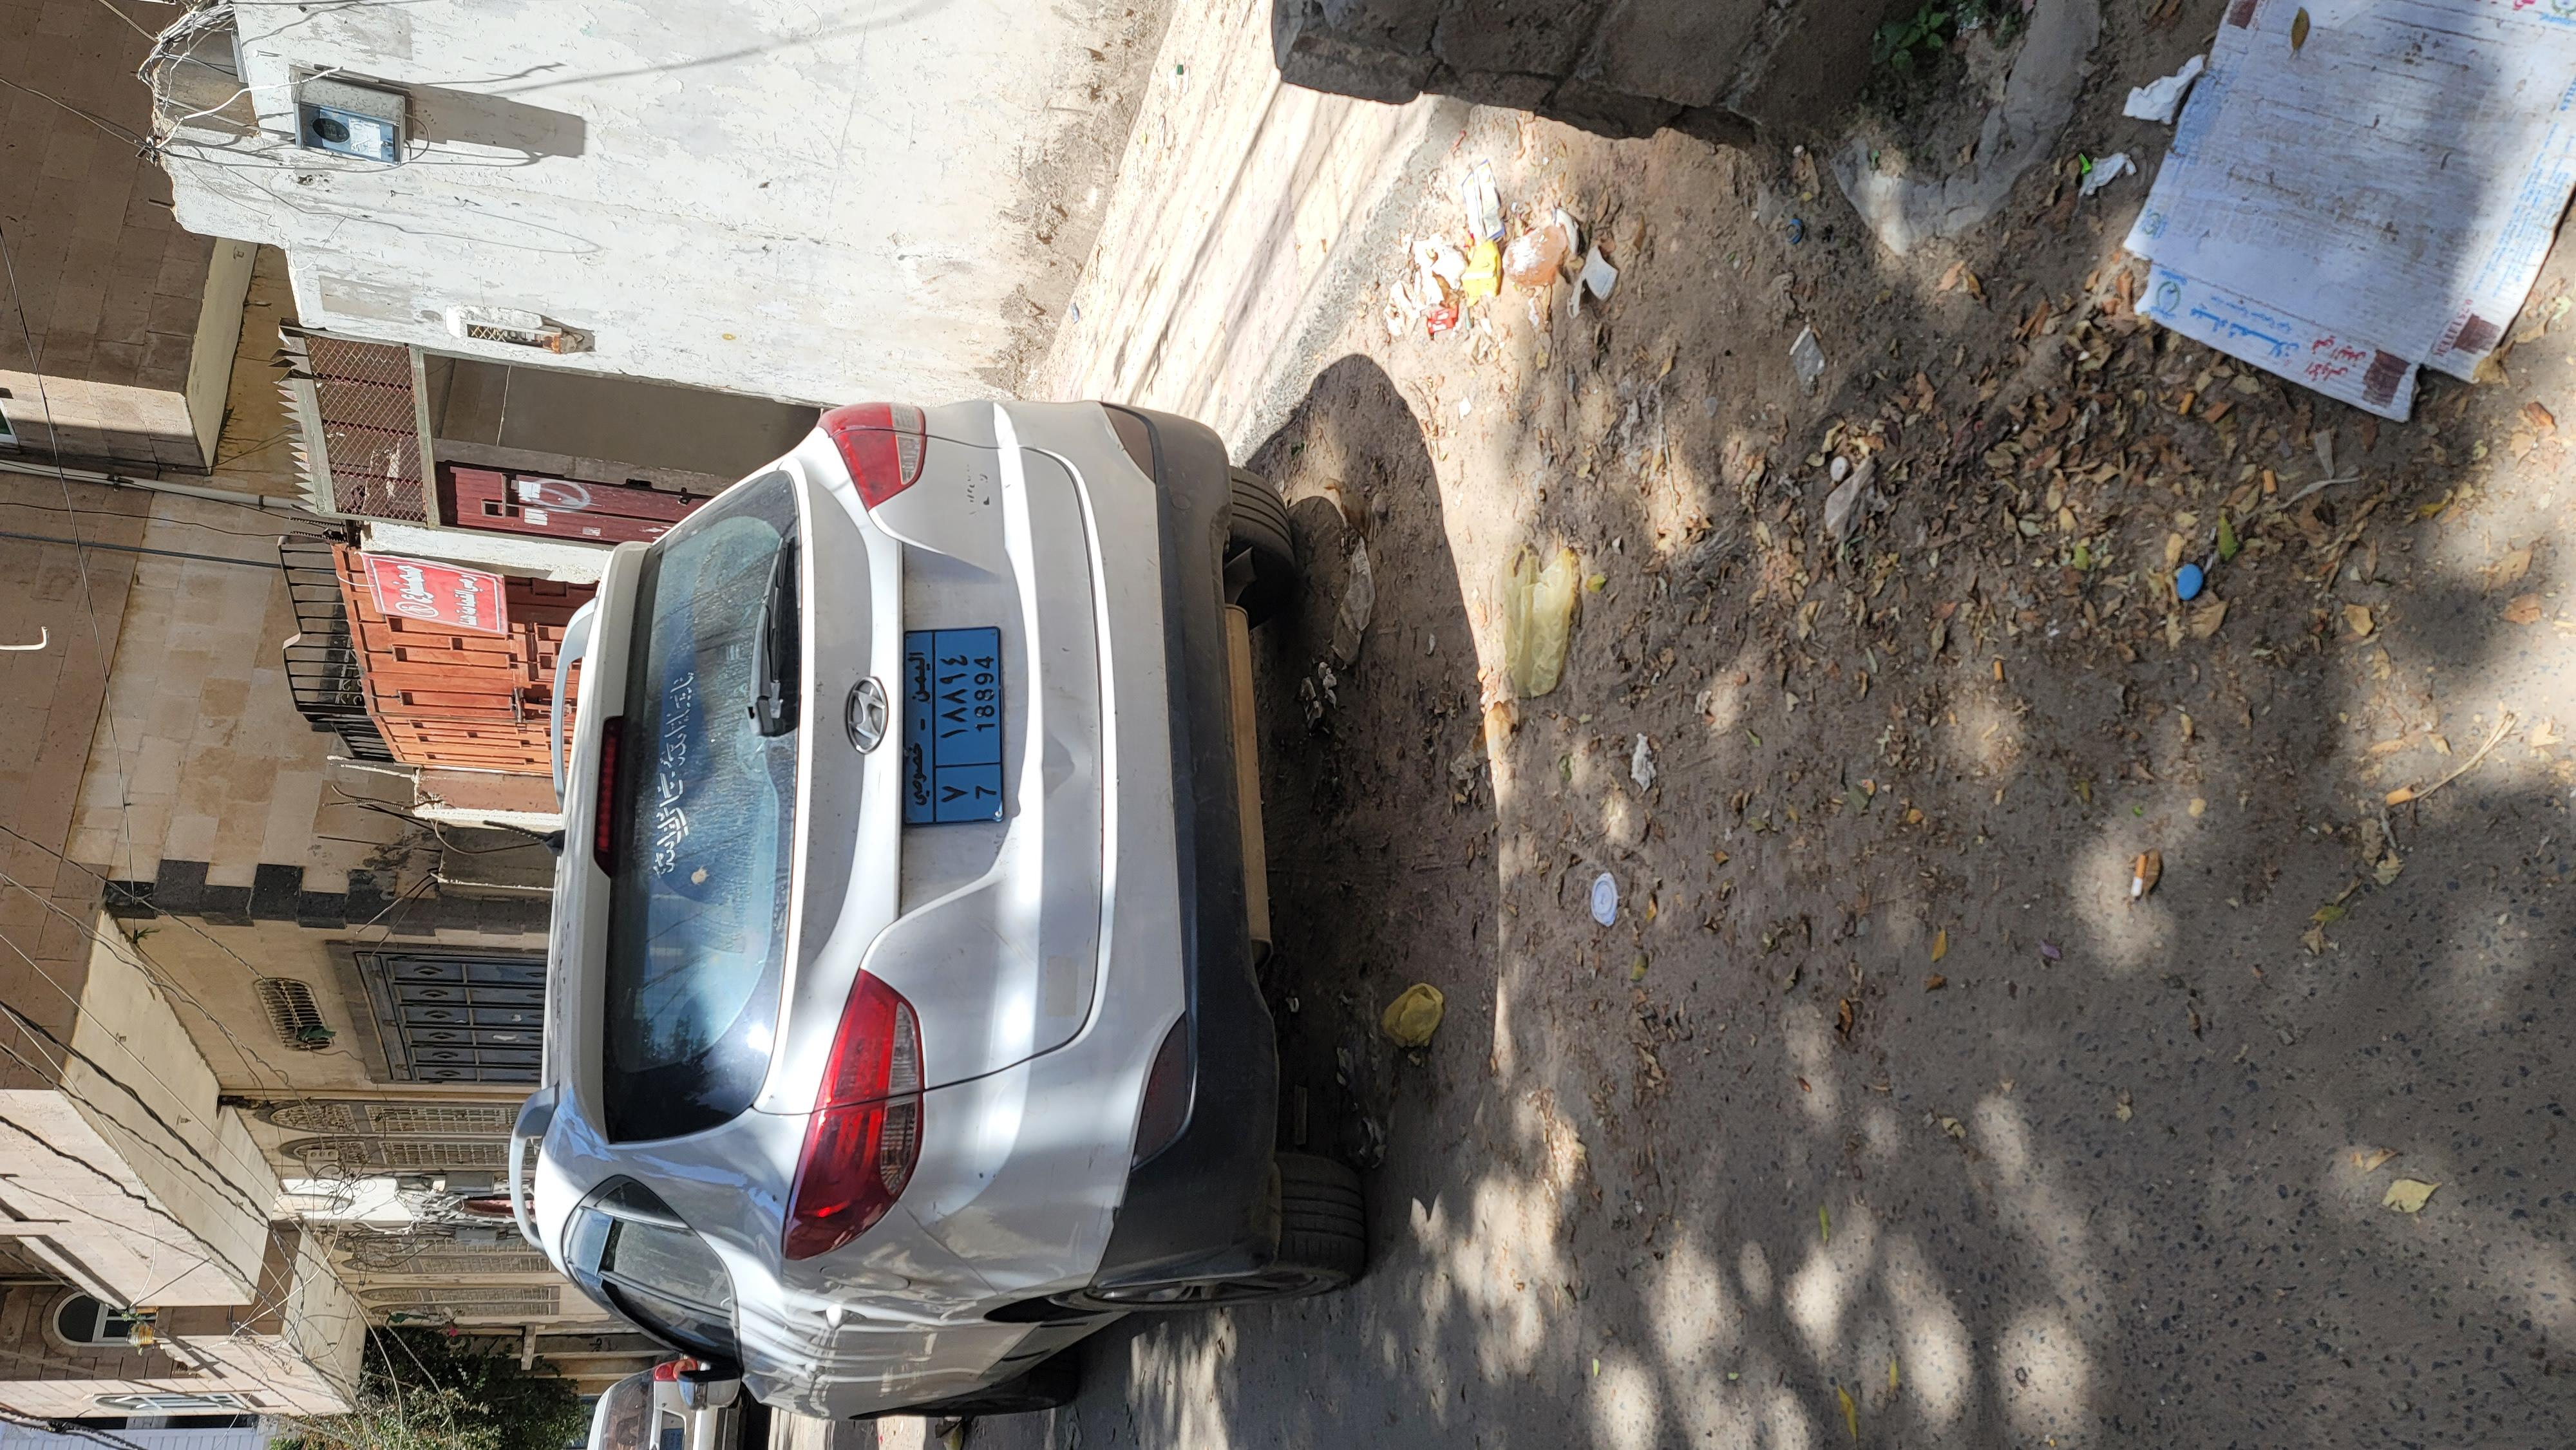privte: (1112, 509, 1461, 563), (0, 372, 42, 384)
